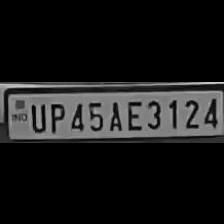1: (162, 96, 180, 128)
2: (180, 96, 200, 128)
3: (144, 97, 162, 129)
4: (66, 98, 86, 130), (200, 93, 218, 126)
5: (85, 98, 105, 130)
A: (105, 96, 123, 130)
E: (124, 96, 142, 130)
P: (46, 99, 64, 131)
U: (27, 99, 46, 130)
